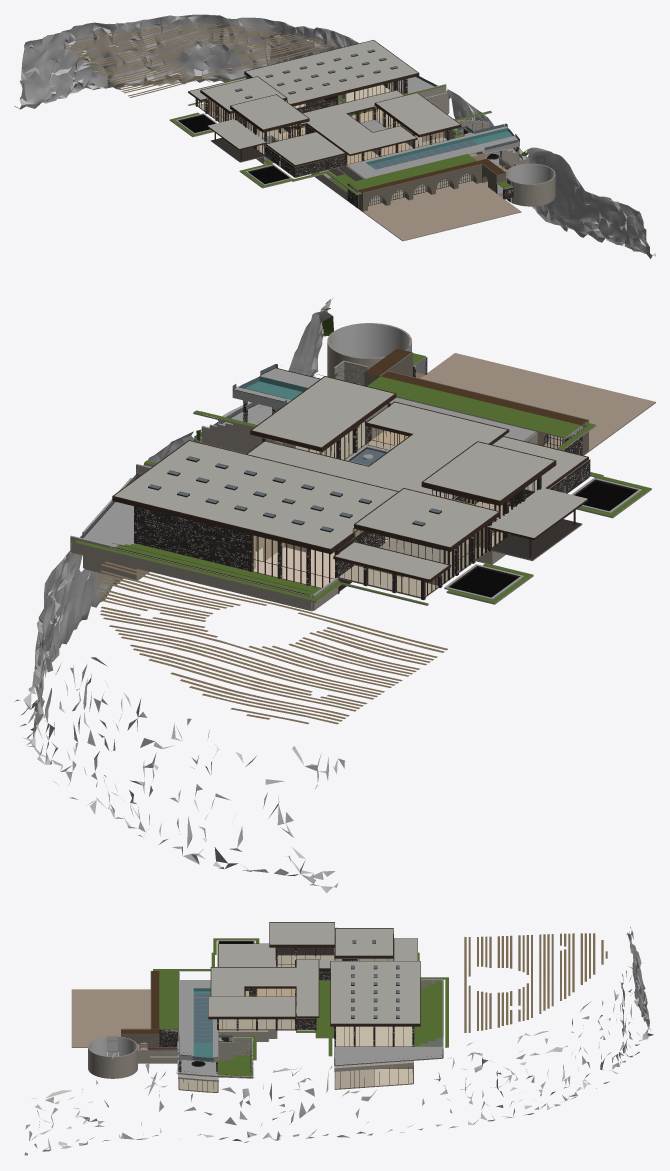
The model's file is altair.glb.
3 renders of one model, top to bottom at view 1: azimuth 30°, elevation 25°; view 2: azimuth 150°, elevation 25°; view 3: azimuth 270°, elevation 25°, orthographic. The views are drawn at different scales.
Visible parts, largest first — view 1: altair__stone, altair__cliff, altair__roof, altair__metal, altair__lawn, altair__dark, altair__pool, altair__sand, altair__wood, altair__glass; view 2: altair__stone, altair__roof, altair__metal, altair__cliff, altair__lawn, altair__dark, altair__wood, altair__sand, altair__pool; view 3: altair__stone, altair__roof, altair__lawn, altair__cliff, altair__metal, altair__dark, altair__pool, altair__sand, altair__wood.
Boxes of the visible parts, x1,y1,x2,y2 form: altair__stone: (65, 23, 555, 241); altair__cliff: (14, 14, 655, 258); altair__roof: (189, 40, 526, 164); altair__metal: (178, 40, 522, 178); altair__lawn: (109, 22, 528, 194); altair__dark: (179, 84, 498, 183); altair__pool: (235, 49, 513, 169); altair__sand: (497, 164, 554, 194); altair__wood: (281, 103, 412, 164); altair__glass: (233, 76, 522, 159); altair__stone: (70, 323, 655, 724); altair__roof: (83, 377, 587, 579); altair__metal: (80, 367, 637, 597); altair__cliff: (14, 297, 344, 893); altair__lawn: (75, 308, 651, 604); altair__dark: (255, 425, 636, 597); altair__wood: (253, 430, 408, 587); altair__sand: (329, 324, 425, 375); altair__pool: (149, 380, 440, 530); altair__stone: (71, 933, 607, 1092); altair__roof: (178, 922, 419, 1080); altair__lawn: (107, 938, 448, 1076); altair__cliff: (24, 926, 653, 1155); altair__metal: (176, 922, 443, 1092); altair__dark: (191, 942, 412, 1086); altair__pool: (194, 940, 399, 1057); altair__sand: (89, 1036, 136, 1056); altair__wood: (245, 988, 295, 996).
Size of the model in its own units: 155 by 47.29 by 263.
